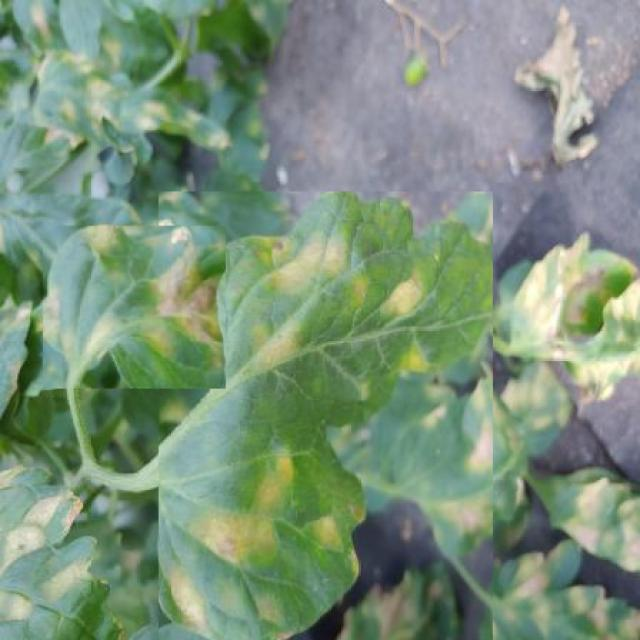Leaf Mold: (158, 191, 493, 640), (43, 226, 226, 390)
